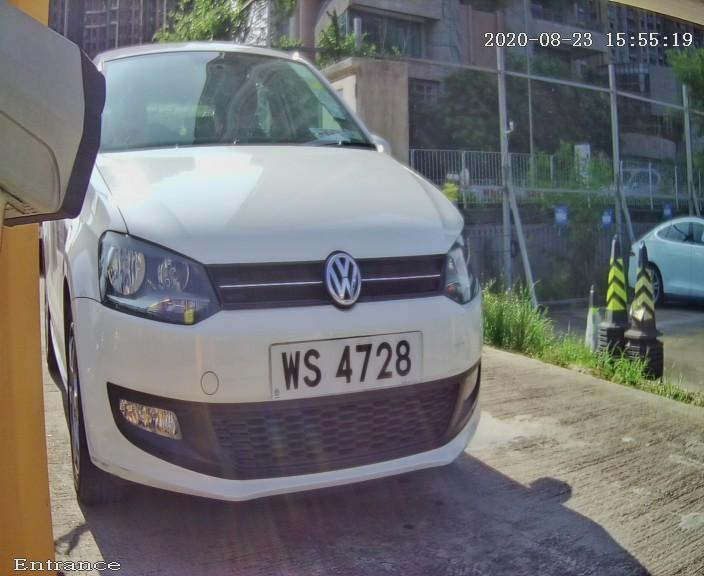Car: (13, 8, 532, 548)
License Plate: (246, 315, 451, 412)
